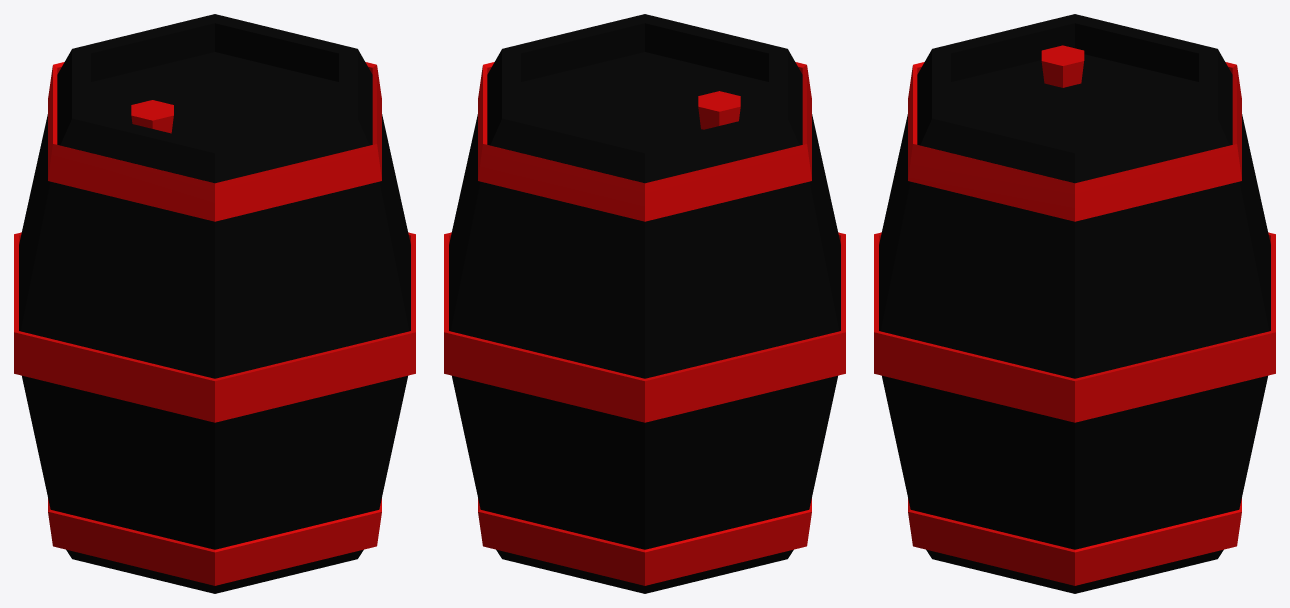
The model's file is Barrel_01.FBX.
The picture shows the model from 3 angles, left to right: view 1: azimuth 30°, elevation 25°; view 2: azimuth 150°, elevation 25°; view 3: azimuth 270°, elevation 25°; orthographic projection.
Parts seen in each view (by area): view 1: Barrel_01; view 2: Barrel_01; view 3: Barrel_01.
Boxes of the visible parts, <box> form: Barrel_01: <box>14,14,415,593</box>; Barrel_01: <box>444,14,845,593</box>; Barrel_01: <box>874,14,1275,593</box>.
Size of the model in its own units: 158 by 165 by 137.
